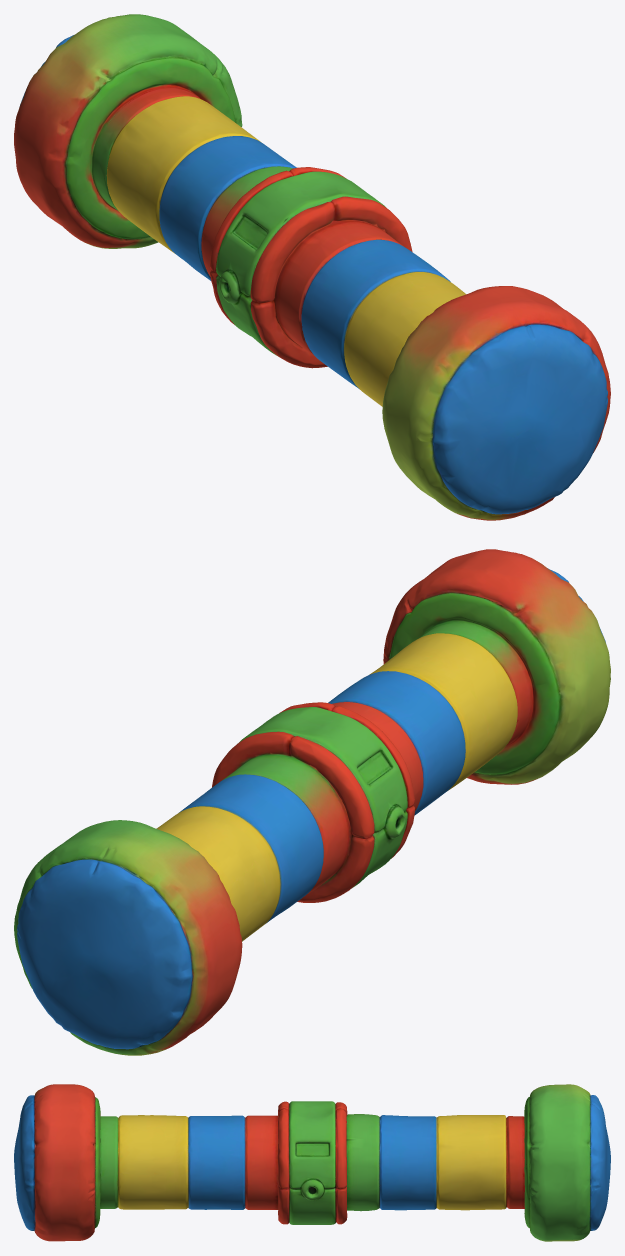
Rendered from sweeper_arm.glb.
3 renders of one model, top to bottom at view 1: azimuth 30°, elevation 25°; view 2: azimuth 150°, elevation 25°; view 3: azimuth 270°, elevation 25°, orthographic. The views are drawn at different scales.
Parts seen in each view (by area): view 1: tripo_node_7ac53d55-0b90-4258-a529-79f006e772ed; view 2: tripo_node_7ac53d55-0b90-4258-a529-79f006e772ed; view 3: tripo_node_7ac53d55-0b90-4258-a529-79f006e772ed.
Boxes of the visible parts, bbox=[...] form: tripo_node_7ac53d55-0b90-4258-a529-79f006e772ed: bbox=[14, 14, 610, 520]; tripo_node_7ac53d55-0b90-4258-a529-79f006e772ed: bbox=[14, 549, 610, 1055]; tripo_node_7ac53d55-0b90-4258-a529-79f006e772ed: bbox=[14, 1084, 610, 1241].
Size of the model in its own units: 0.345 by 0.35 by 1.33.
Materials: 1 (1 with a texture image).
